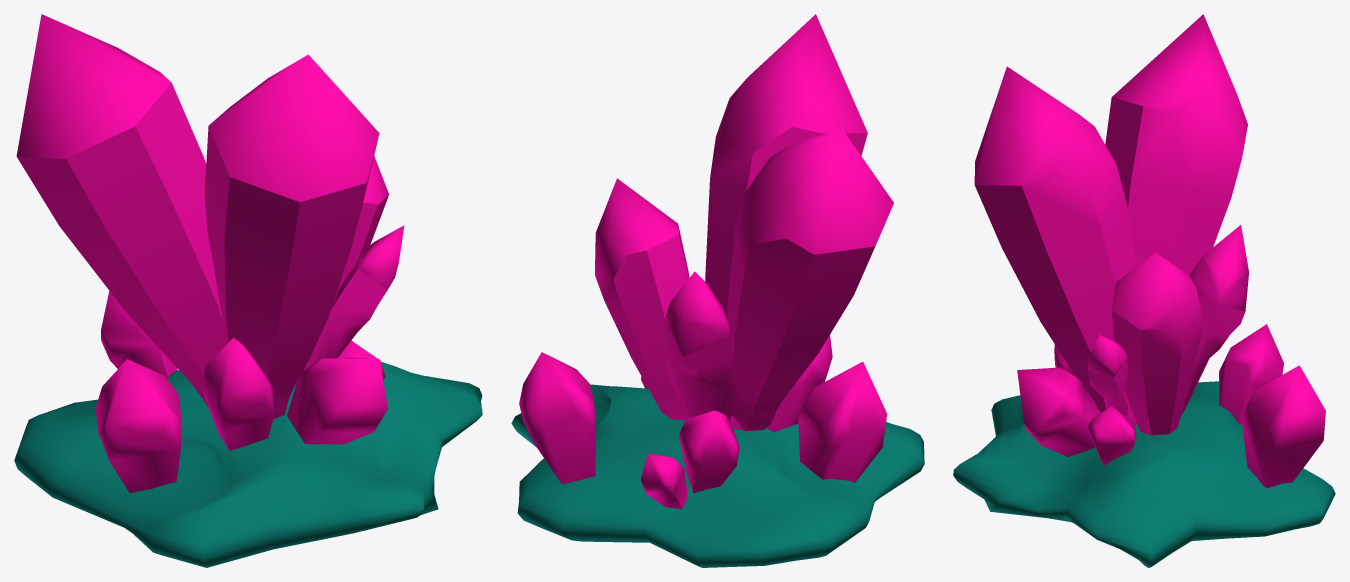
Rendered from crystal_cluster.glb.
3 renders of one model, left to right at view 1: azimuth 30°, elevation 25°; view 2: azimuth 150°, elevation 25°; view 3: azimuth 270°, elevation 25°, orthographic. The views are drawn at different scales.
Visible parts, largest first — view 1: CrystalFamily; view 2: CrystalFamily; view 3: CrystalFamily.
Boxes of the visible parts, x1,y1,x2,y2 form: CrystalFamily: (14, 14, 482, 567); CrystalFamily: (511, 14, 924, 567); CrystalFamily: (953, 14, 1335, 567).
Size of the model in its own units: 0.1146 by 0.1256 by 0.1034.
